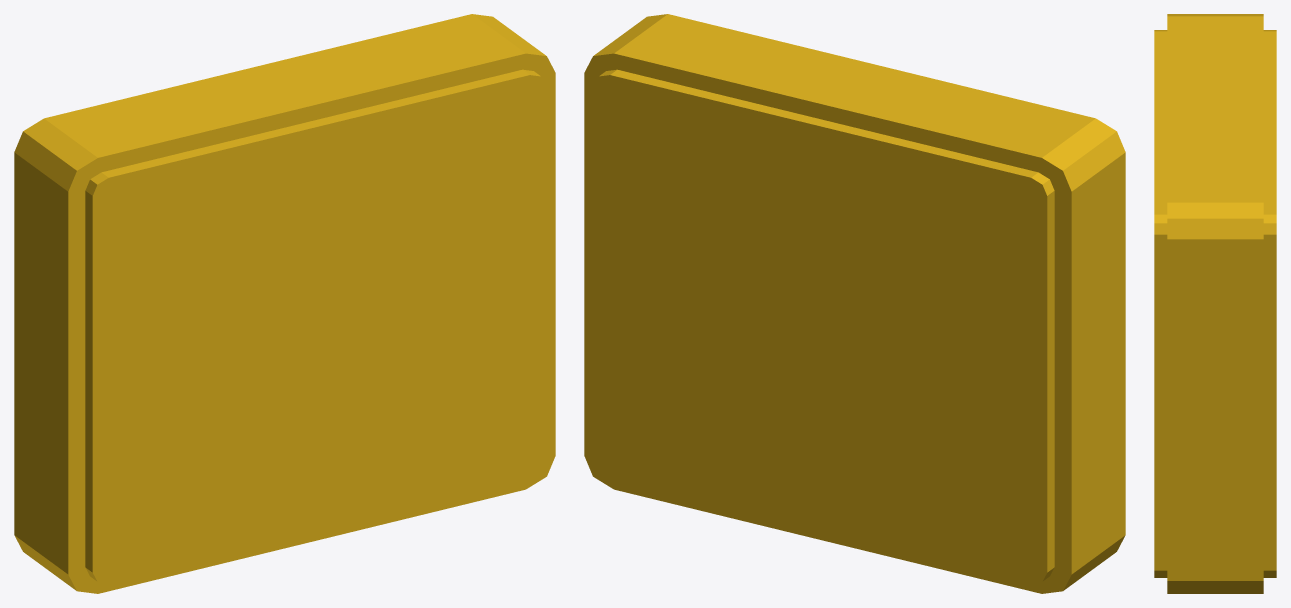
Rendered from obstacle.fbx.
3 renders of one model, left to right at view 1: azimuth 30°, elevation 25°; view 2: azimuth 150°, elevation 25°; view 3: azimuth 270°, elevation 25°, orthographic. The views are drawn at different scales.
Parts seen in each view (by area): view 1: obstacle.regular; view 2: obstacle.regular; view 3: obstacle.regular.
Boxes of the visible parts, x1=… form: obstacle.regular: x1=14, y1=14, x2=555, y2=593; obstacle.regular: x1=584, y1=14, x2=1125, y2=593; obstacle.regular: x1=1154, y1=14, x2=1276, y2=593.
Bounding box in the file's own units: 217 × 185 × 52.91.
